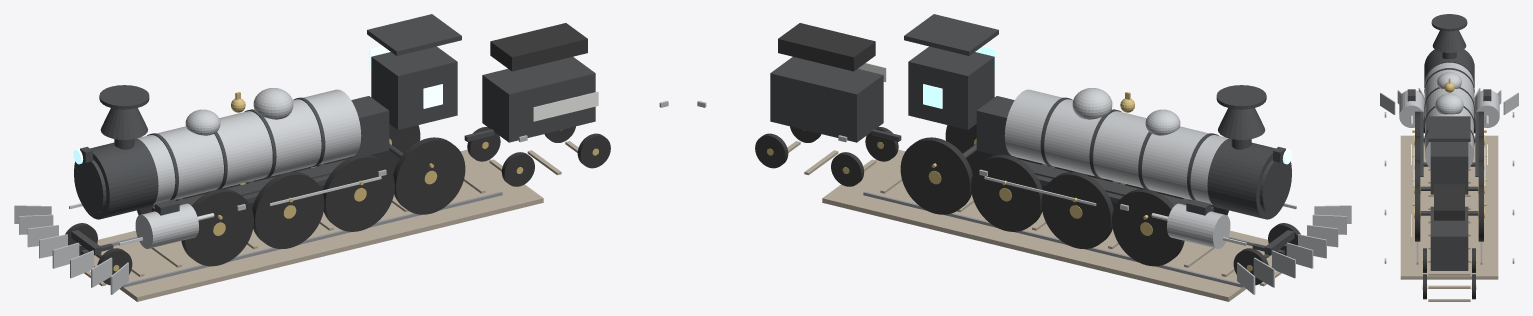
File: ouray-poc-v1.glb
The picture shows the model from 3 angles, left to right: view 1: azimuth 30°, elevation 25°; view 2: azimuth 150°, elevation 25°; view 3: azimuth 270°, elevation 25°; orthographic projection. The views are drawn at different scales.
Visible parts, largest first — view 1: boiler, pedestal, tender_body, cab_body, driver_3_L_tire, driver_1_L_tire, driver_2_L_tire, smokebox, driver_0_L_tire, tender_coal, cab_roof, cylinder_L (+21 smaller); view 2: boiler, pedestal, tender_body, cab_body, driver_3_R_tire, driver_1_R_tire, driver_2_R_tire, smokebox, driver_0_R_tire, tender_coal, cab_roof, cylinder_R (+20 smaller); view 3: pedestal, tender_body, boiler, cab_body, tender_coal, cab_roof, smokebox, cylinder_L, cylinder_R, stack_diamond, stack_cap, steam_dome (+22 smaller).
Boxes of the visible parts, <box> form: boiler: <box>137,89,361,204</box>; pedestal: <box>94,149,543,301</box>; tender_body: <box>482,57,595,142</box>; cab_body: <box>371,46,457,129</box>; driver_3_L_tire: <box>393,137,465,214</box>; driver_1_L_tire: <box>252,172,324,248</box>; driver_2_L_tire: <box>323,154,394,231</box>; smokebox: <box>74,138,158,219</box>; driver_0_L_tire: <box>181,189,253,266</box>; tender_coal: <box>490,23,587,71</box>; cab_roof: <box>367,14,461,55</box>; cylinder_L: <box>135,203,198,248</box>; boiler: <box>1004,89,1228,204</box>; pedestal: <box>822,149,1271,301</box>; tender_body: <box>770,57,883,142</box>; cab_body: <box>908,46,994,129</box>; driver_3_R_tire: <box>900,137,972,214</box>; driver_1_R_tire: <box>1041,172,1113,248</box>; driver_2_R_tire: <box>971,154,1042,231</box>; smokebox: <box>1207,138,1291,219</box>; driver_0_R_tire: <box>1112,189,1184,266</box>; tender_coal: <box>778,23,875,71</box>; cab_roof: <box>904,14,998,55</box>; cylinder_R: <box>1167,203,1230,248</box>; pedestal: <box>1400,135,1498,279</box>; tender_body: <box>1430,206,1468,270</box>; boiler: <box>1425,62,1473,168</box>; cab_body: <box>1430,142,1468,194</box>; tender_coal: <box>1434,184,1464,220</box>; cab_roof: <box>1428,116,1470,141</box>; smokebox: <box>1424,49,1474,87</box>; cylinder_L: <box>1399,90,1424,127</box>; cylinder_R: <box>1474,90,1499,127</box>; stack_diamond: <box>1432,30,1466,52</box>; stack_cap: <box>1431,14,1467,31</box>; steam_dome: <box>1435,93,1463,114</box>.
Size of the model in its own units: 10.64 by 3.1 by 3.13.
